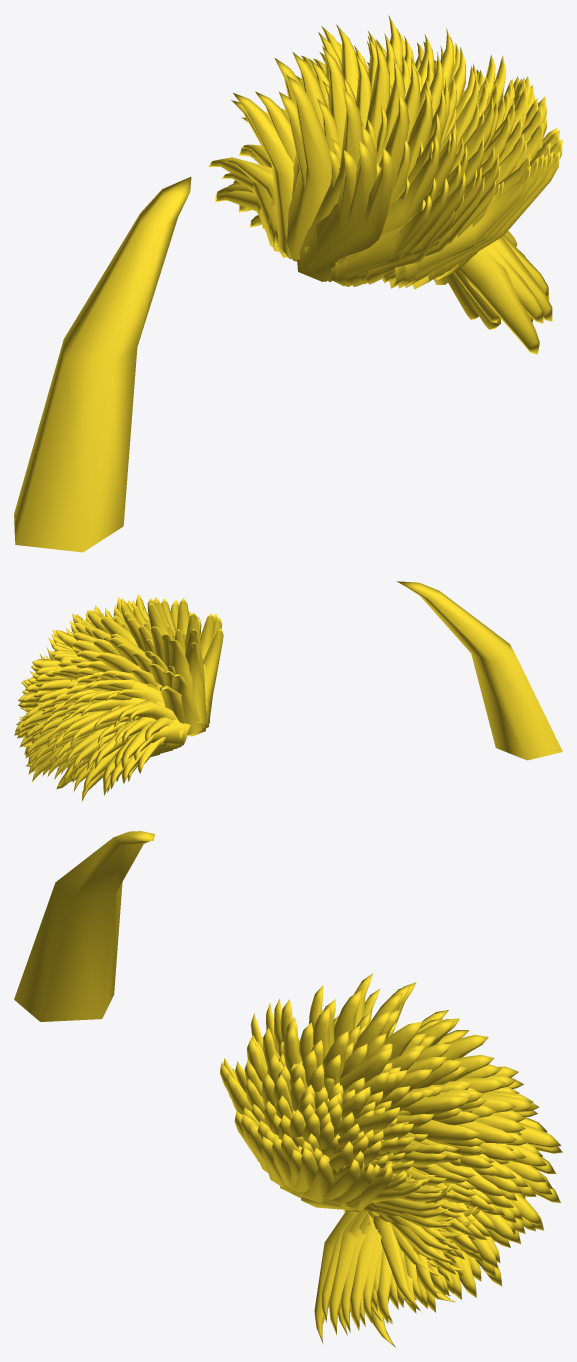
Rendered from gokhairnew.fbx.
The picture shows the model from 3 angles, top to bottom: view 1: azimuth 30°, elevation 25°; view 2: azimuth 150°, elevation 25°; view 3: azimuth 270°, elevation 25°; orthographic projection. The views are drawn at different scales.
Visible parts, largest first — view 1: Circle, Sphere|Circle|Dupli|543, Sphere|Circle|Dupli|160, Sphere|Circle|Dupli|510, Sphere|Circle|Dupli|544, Sphere|Circle|Dupli|509, Sphere|Circle|Dupli|413, Sphere|Circle|Dupli|477, Sphere|Circle|Dupli|529, Sphere|Circle|Dupli|469, Sphere|Circle|Dupli|508, Sphere|Circle|Dupli|478 (+23 smaller); view 2: Circle, Sphere|Circle|Dupli|583, Sphere|Circle|Dupli|508, Sphere|Circle|Dupli|544, Sphere|Circle|Dupli|543, Sphere|Circle|Dupli|541, Sphere|Circle|Dupli|560, Sphere|Circle|Dupli|604, Sphere|Circle|Dupli|566, Sphere|Circle|Dupli|606, Sphere|Circle|Dupli|545, Sphere|Circle|Dupli|507 (+19 smaller); view 3: Circle, Sphere|Circle|Dupli|125, Sphere|Circle|Dupli|138, Sphere|Circle|Dupli|113, Sphere|Circle|Dupli|160, Sphere|Circle|Dupli|123, Sphere|Circle|Dupli|728, Sphere|Circle|Dupli|445, Sphere|Circle|Dupli|312, Sphere|Circle|Dupli|620, Sphere|Circle|Dupli|124, Sphere|Circle|Dupli|85 (+8 smaller).
Part boxes in pixels (<box>): Circle: <box>14,177,191,552</box>; Sphere|Circle|Dupli|543: <box>283,75,331,259</box>; Sphere|Circle|Dupli|160: <box>460,248,539,354</box>; Sphere|Circle|Dupli|510: <box>308,148,394,282</box>; Sphere|Circle|Dupli|544: <box>233,93,293,259</box>; Sphere|Circle|Dupli|509: <box>299,140,373,281</box>; Sphere|Circle|Dupli|413: <box>389,166,530,288</box>; Sphere|Circle|Dupli|477: <box>335,178,449,286</box>; Sphere|Circle|Dupli|529: <box>304,88,362,253</box>; Sphere|Circle|Dupli|469: <box>337,135,440,263</box>; Sphere|Circle|Dupli|508: <box>297,150,357,281</box>; Sphere|Circle|Dupli|478: <box>344,172,466,286</box>; Circle: <box>397,581,562,760</box>; Sphere|Circle|Dupli|583: <box>121,722,190,768</box>; Sphere|Circle|Dupli|508: <box>190,628,223,736</box>; Sphere|Circle|Dupli|544: <box>171,674,202,735</box>; Sphere|Circle|Dupli|543: <box>185,629,206,724</box>; Sphere|Circle|Dupli|541: <box>169,640,192,692</box>; Sphere|Circle|Dupli|560: <box>96,652,162,694</box>; Sphere|Circle|Dupli|604: <box>81,697,164,715</box>; Sphere|Circle|Dupli|566: <box>160,685,187,733</box>; Sphere|Circle|Dupli|606: <box>88,679,163,702</box>; Sphere|Circle|Dupli|545: <box>186,642,203,728</box>; Sphere|Circle|Dupli|507: <box>200,613,214,682</box>; Circle: <box>14,831,154,1021</box>; Sphere|Circle|Dupli|125: <box>329,1211,361,1334</box>; Sphere|Circle|Dupli|138: <box>373,1216,419,1309</box>; Sphere|Circle|Dupli|113: <box>349,1221,379,1330</box>; Sphere|Circle|Dupli|160: <box>314,1210,367,1343</box>; Sphere|Circle|Dupli|123: <box>341,1211,374,1332</box>; Sphere|Circle|Dupli|728: <box>409,1119,480,1142</box>; Sphere|Circle|Dupli|445: <box>339,1048,392,1091</box>; Sphere|Circle|Dupli|312: <box>280,1156,334,1203</box>; Sphere|Circle|Dupli|620: <box>403,1097,465,1115</box>; Sphere|Circle|Dupli|124: <box>321,1214,353,1322</box>; Sphere|Circle|Dupli|85: <box>376,1247,392,1323</box>.
Size of the model in its own units: 1255 by 614 by 961.
